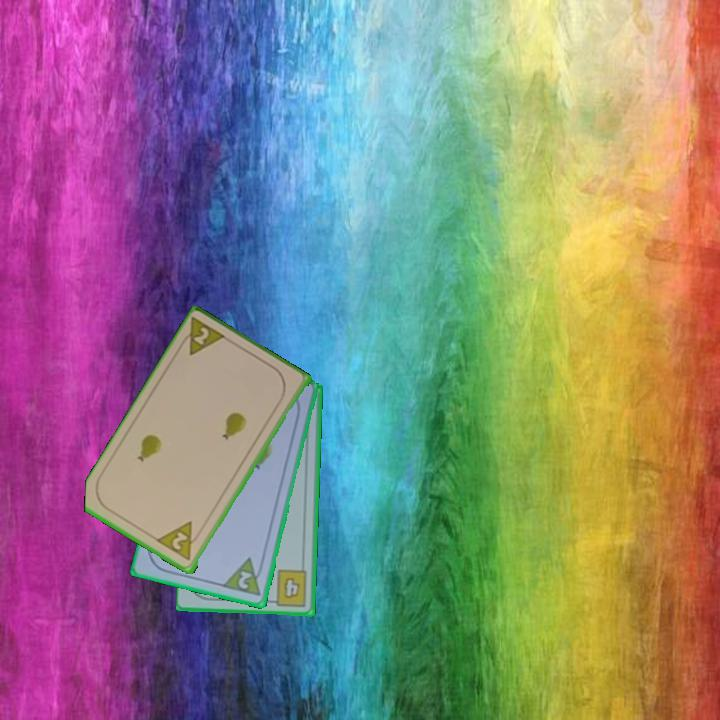2p: (175, 314, 230, 359), (154, 518, 204, 564), (219, 555, 267, 600)
4b: (266, 566, 310, 609)
